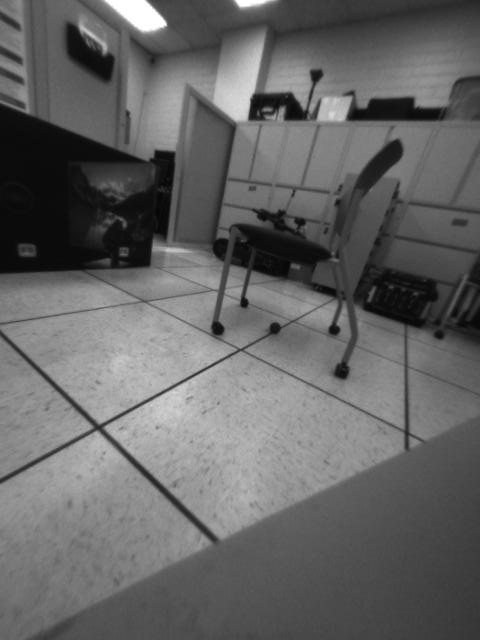dogtoy: (261, 314, 290, 340)
